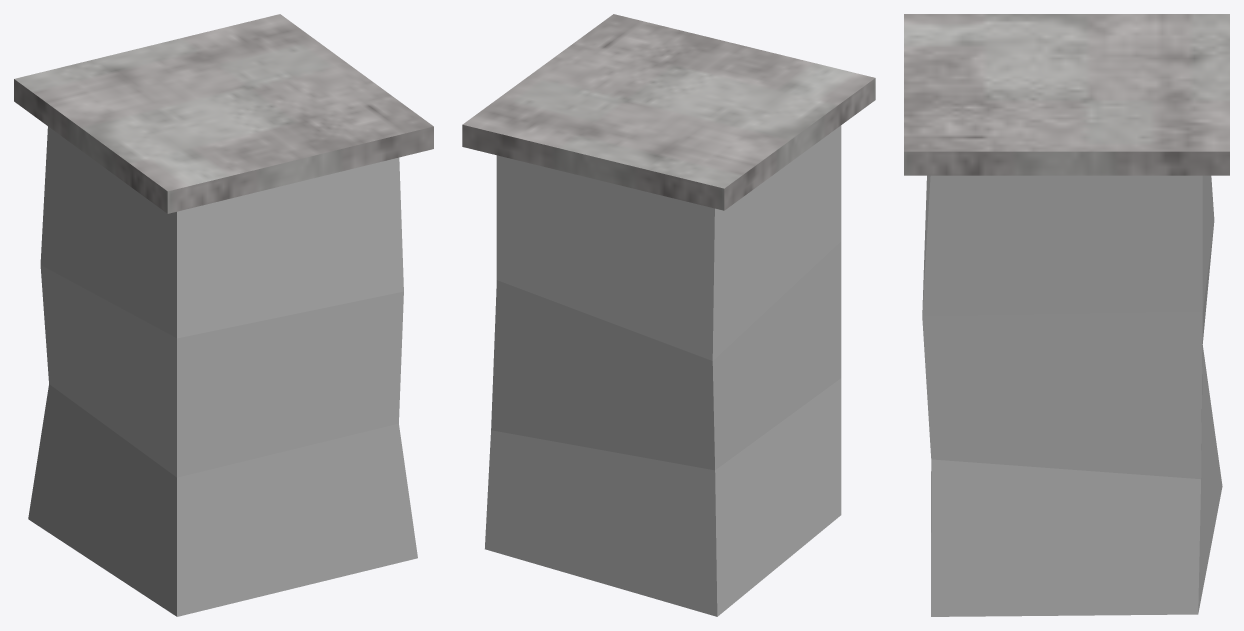
Rendered from StoneWall_Post_Capped_Model.fbx.
3 views of the same model, side by side, from view 1: azimuth 30°, elevation 25°; view 2: azimuth 150°, elevation 25°; view 3: azimuth 270°, elevation 25° (orthographic). The views are drawn at different scales.
Visible parts, largest first — view 1: Body; view 2: Body; view 3: Body.
Boxes of the visible parts, <box> form: Body: <box>14,14,433,616</box>; Body: <box>462,14,875,616</box>; Body: <box>904,14,1229,616</box>.
Size of the model in its own units: 60 by 94.86 by 60.
